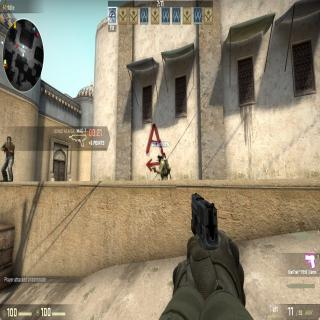CT-Body: (156, 152, 170, 182)
CT-Head: (158, 152, 162, 162)
T-Body: (0, 134, 15, 181)
T-Head: (6, 136, 12, 143)
